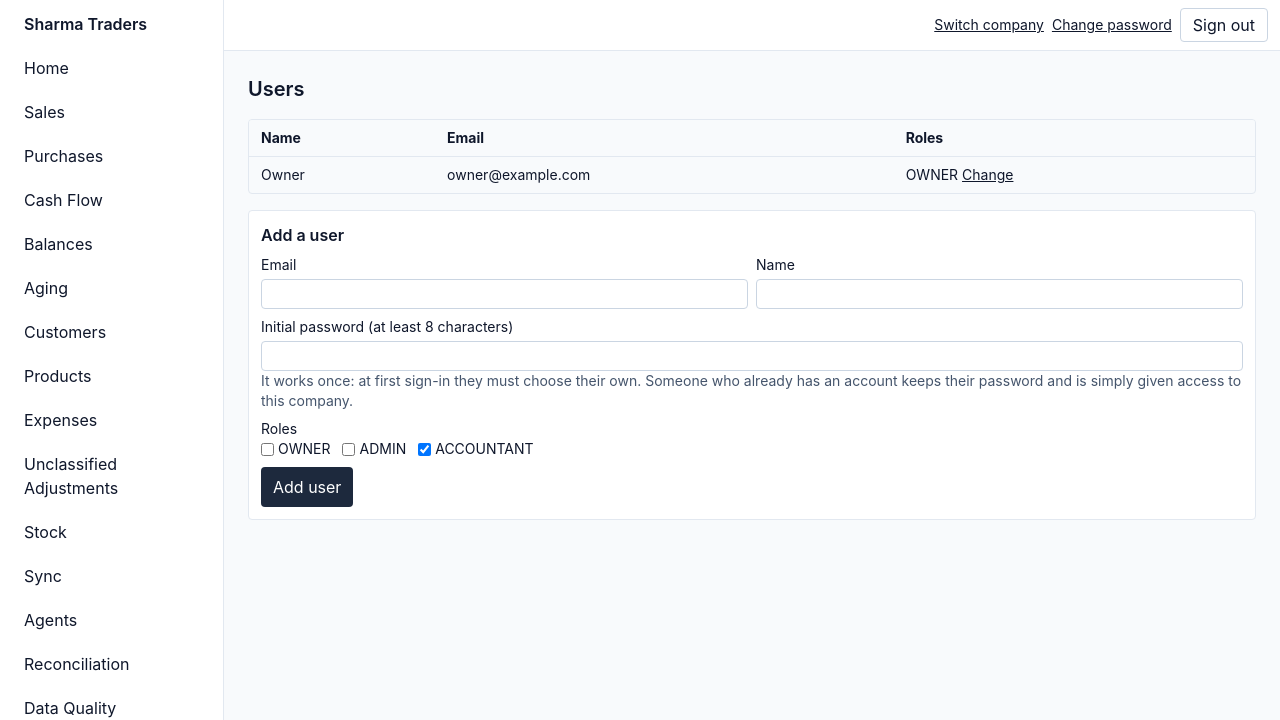
Test: Users (RBAC-1.2) › adds a user with the roles chosen
Type "new@example.com" into the field labelled "Email" at (504, 294), box 261,279 -> 748,309
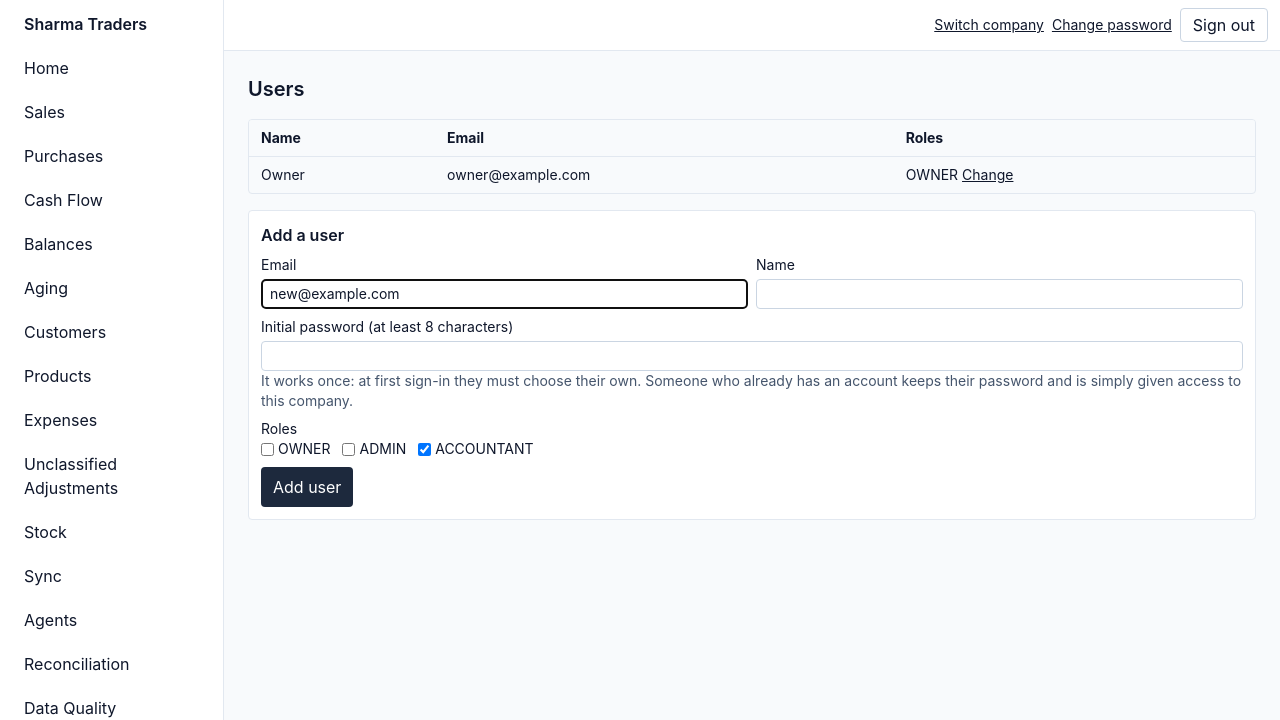
Type "New" into the field labelled "Name" at (1000, 294), box 756,279 -> 1243,309
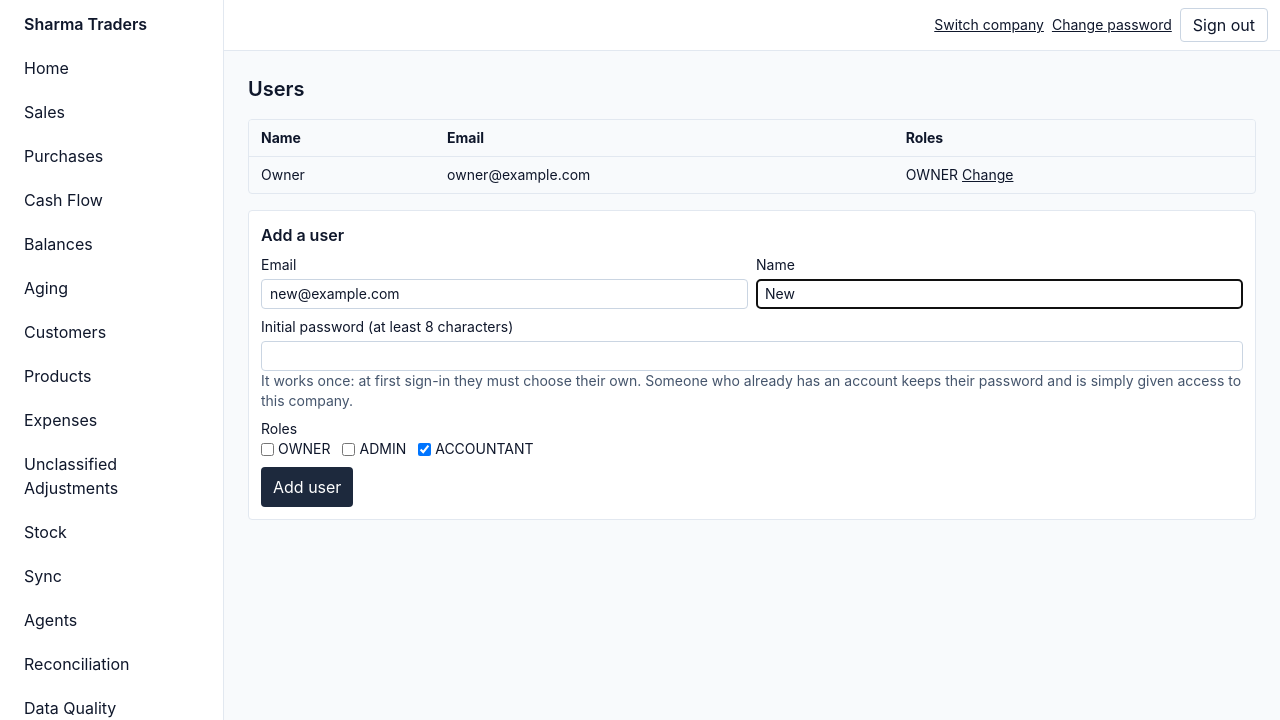
Type "initial-pass" into the password field labelled "Initial password" at (752, 356), box 261,341 -> 1243,371
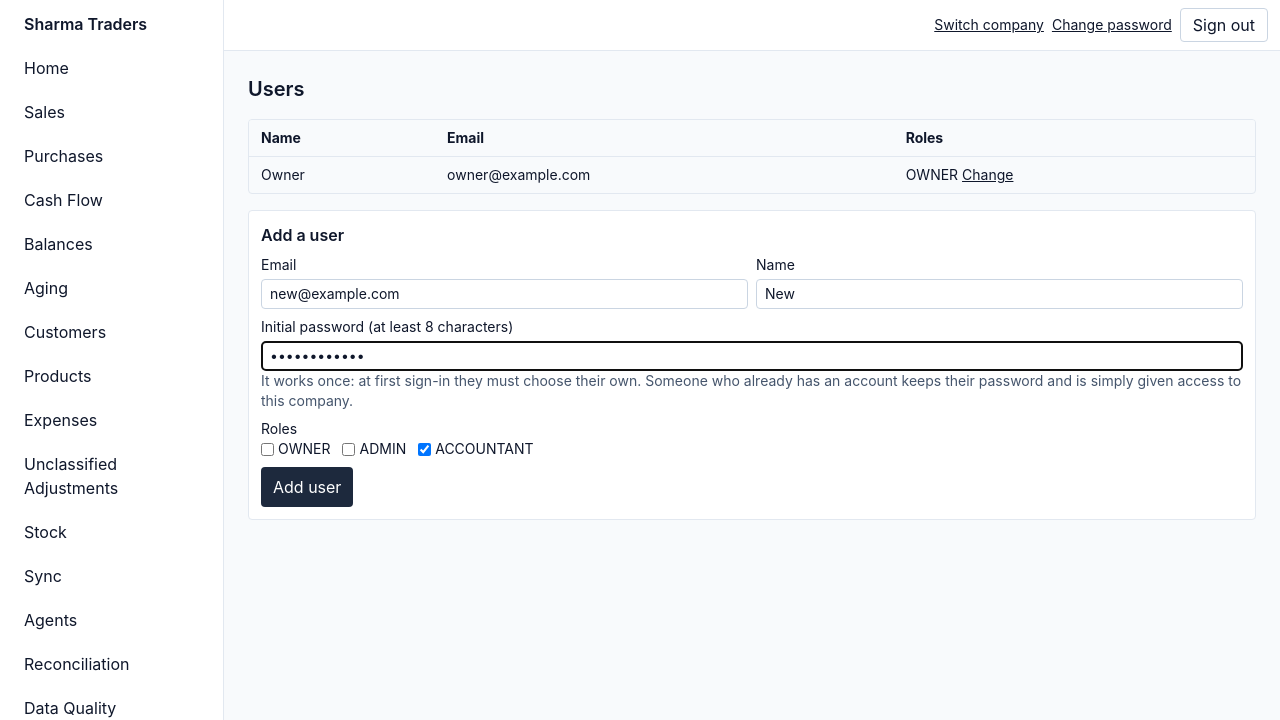
Click the button "Add user" at (307, 487), box 261,467 -> 353,507
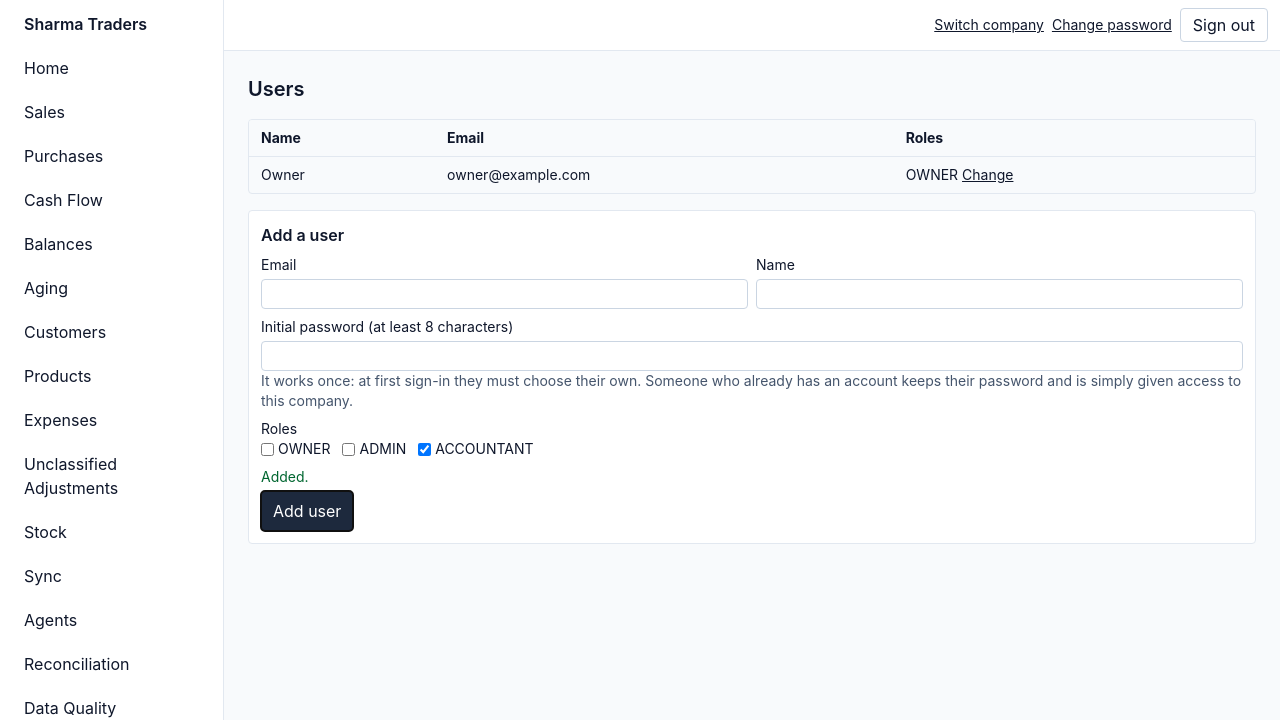
Result: the text "Added." is shown at 261,468 -> 309,485
